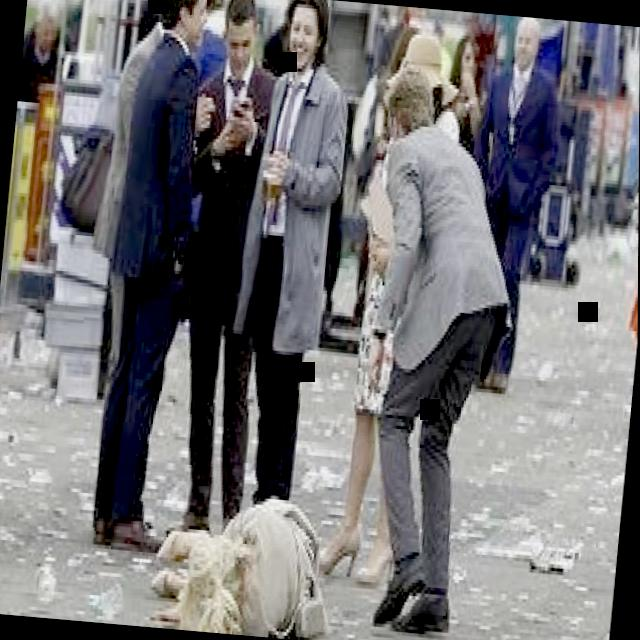Fall-Detected: (123, 460, 343, 640)
